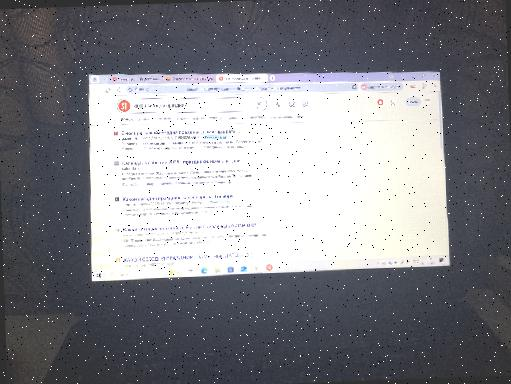yandex: (89, 84, 452, 266)
